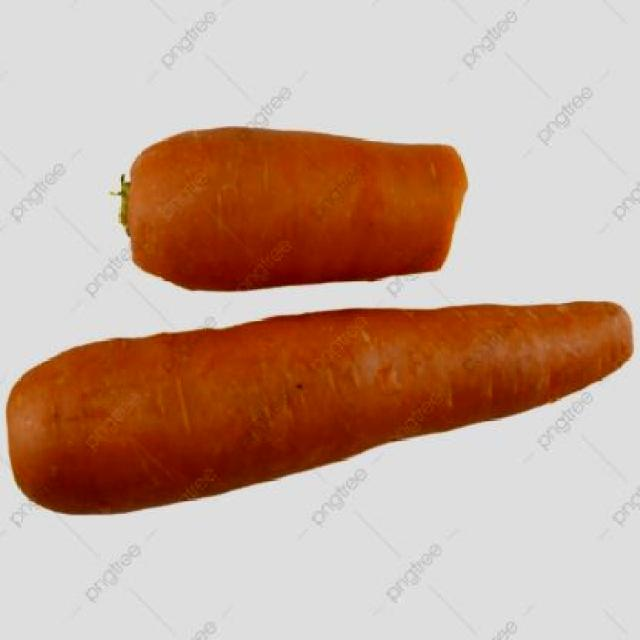carrot: (8, 293, 637, 521), (113, 130, 473, 298)
